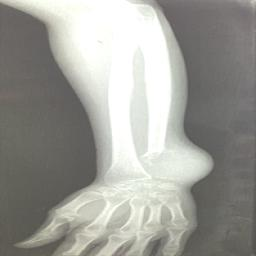cancer: (135, 148, 211, 189)
